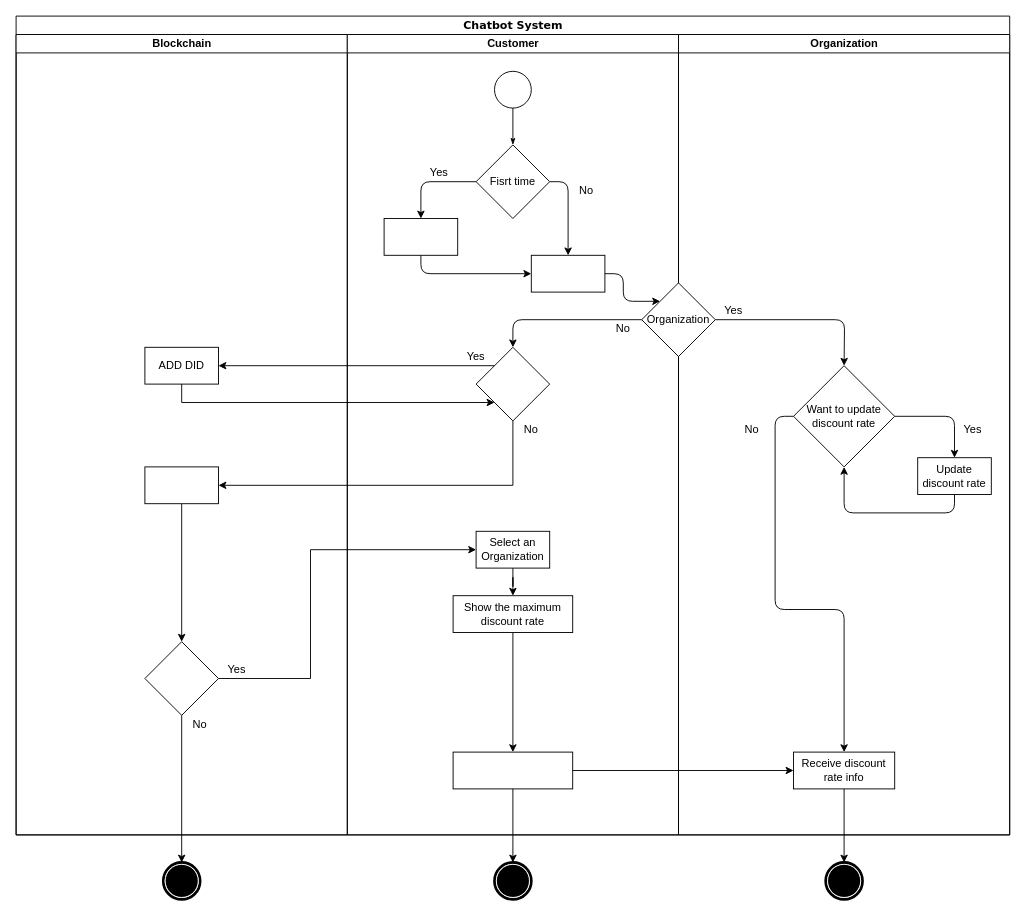
The diagram is 1026 pixels wide and 915 high, and some of its shapes have lost their labels. Each missing label, with the box of its shape:
Login: (530, 254, 605, 292)
Send discount rate info: (452, 751, 573, 789)
Sign Up: (383, 218, 458, 255)
Valid: (144, 641, 218, 715)
Verify DID: (144, 466, 218, 504)
Want to add DID: (475, 346, 550, 421)
